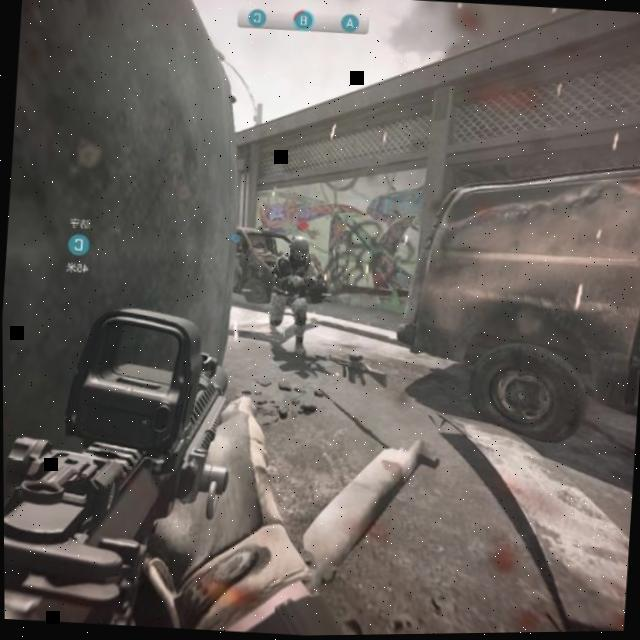MW2_body: (264, 217, 326, 356)
